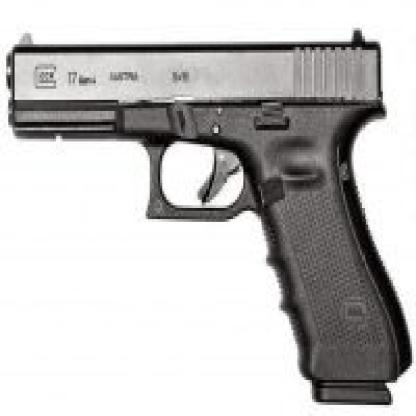handgun: (0, 28, 413, 411)
